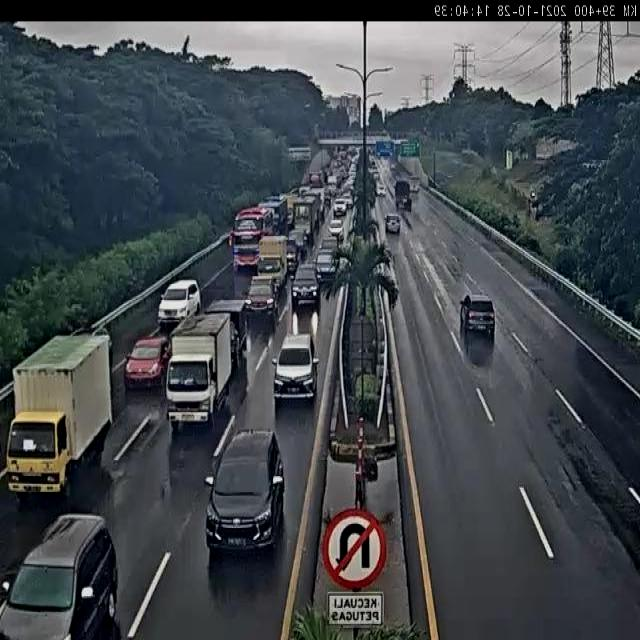Bus: (230, 207, 271, 272), (258, 196, 287, 236)
Car: (0, 514, 120, 639), (202, 426, 283, 551), (272, 332, 318, 404), (122, 337, 170, 393), (157, 278, 200, 328), (244, 276, 282, 330), (460, 293, 497, 337), (290, 263, 320, 309), (288, 228, 310, 266), (314, 248, 338, 282), (320, 234, 340, 258), (328, 218, 344, 238), (333, 198, 348, 216), (386, 215, 401, 233), (376, 183, 386, 197)
Truck: (8, 332, 112, 492), (163, 310, 240, 431), (257, 236, 289, 289), (291, 197, 317, 246)
